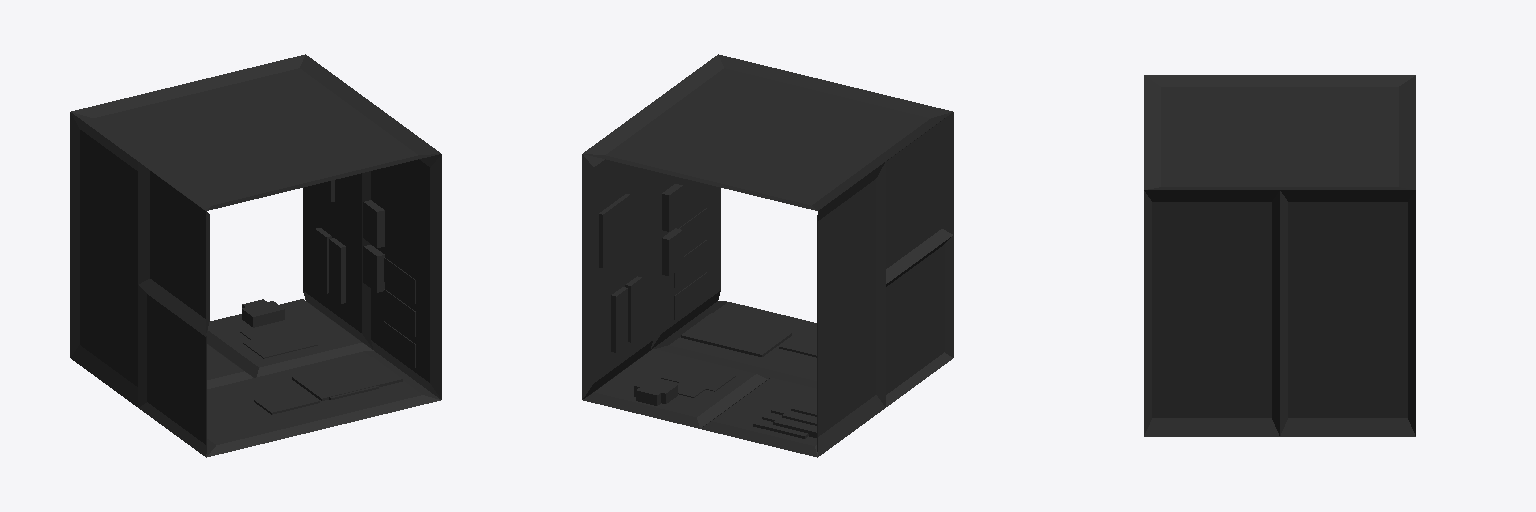
The picture shows the model from 3 angles: view 1: azimuth 30°, elevation 25°; view 2: azimuth 150°, elevation 25°; view 3: azimuth 270°, elevation 25°; orthographic projection.
Parts seen in each view (by area): view 1: tunnel; view 2: tunnel; view 3: tunnel.
Boxes of the visible parts, box(x1,y1,x2,y2) form: tunnel: box(70, 54, 441, 457); tunnel: box(582, 54, 953, 457); tunnel: box(1144, 75, 1415, 436).
Bounding box in the file's own units: 15.56 × 15.56 × 15.56.
Materials: 1 (1 with a texture image).